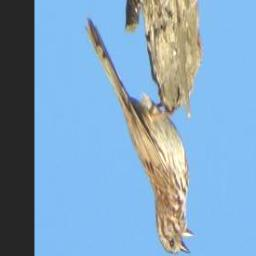Sparrow: (81, 14, 194, 256)
